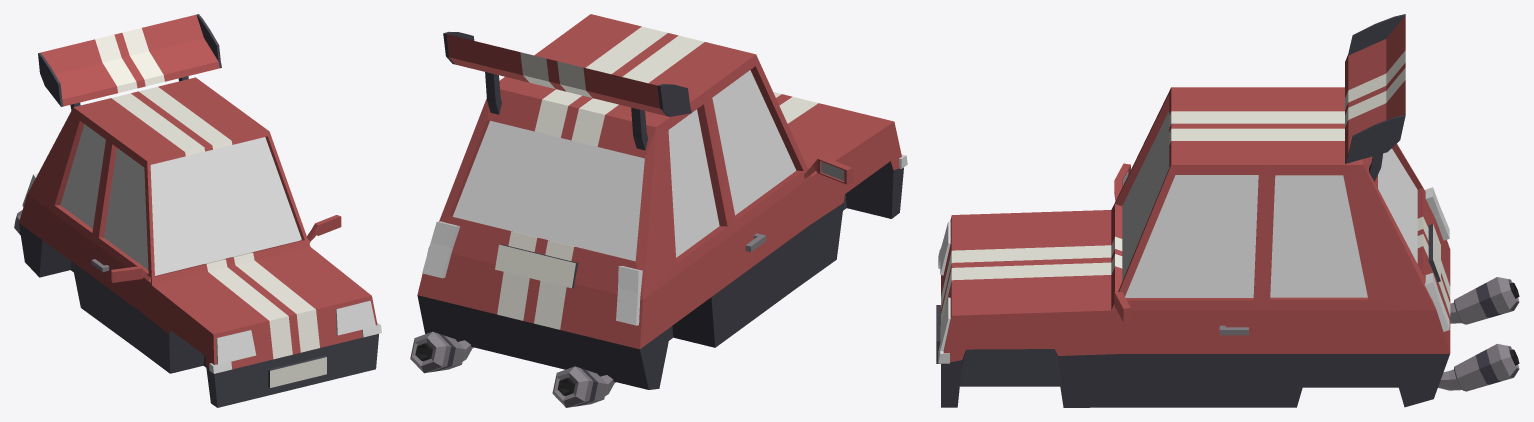
File: TheTuture.fbx
The picture shows the model from 3 angles, left to right: view 1: azimuth 30°, elevation 25°; view 2: azimuth 150°, elevation 25°; view 3: azimuth 270°, elevation 25°; orthographic projection. The views are drawn at different scales.
Visible parts, largest first — view 1: voiture, Aileron; view 2: voiture, Aileron, pot echapement.001, pot echapement; view 3: voiture, Aileron, pot echapement, pot echapement.001.
Boxes of the visible parts, x1,y1,x2,y2 form: voiture: [19, 77, 381, 407]; Aileron: [38, 14, 221, 110]; voiture: [417, 14, 907, 389]; Aileron: [443, 31, 691, 150]; pot echapement.001: [552, 366, 615, 407]; pot echapement: [410, 331, 473, 373]; voiture: [936, 87, 1450, 407]; Aileron: [1345, 14, 1405, 181]; pot echapement: [1438, 343, 1519, 391]; pot echapement.001: [1450, 277, 1519, 324].
Size of the model in its own units: 2.89 by 2.71 by 4.9.
